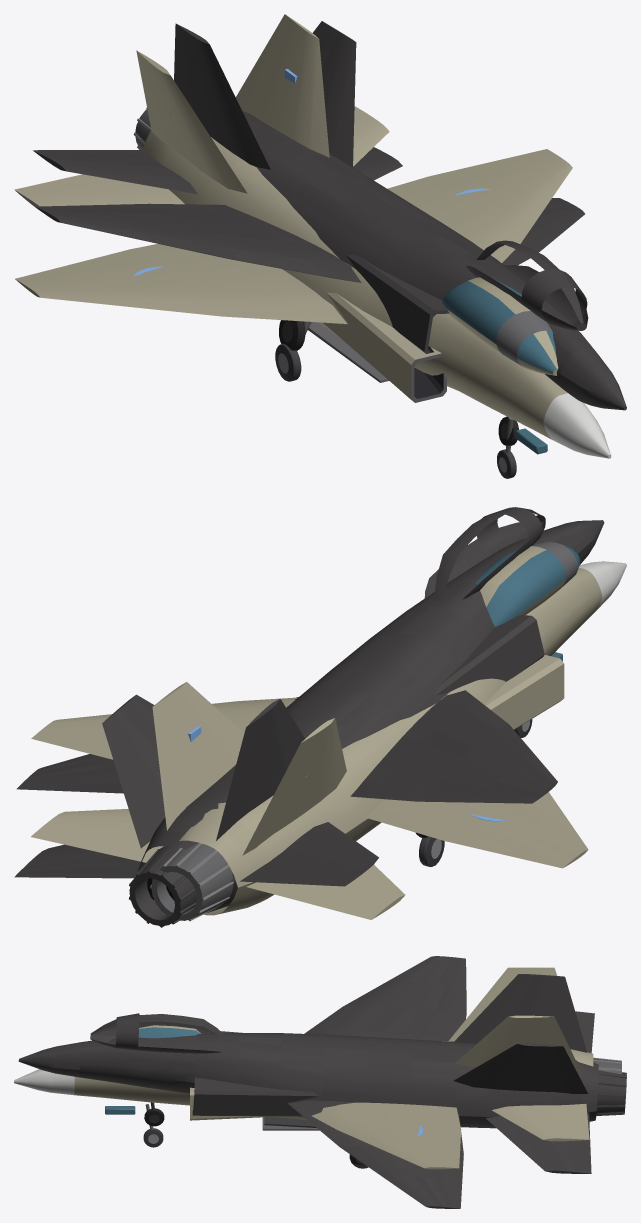
File: stealthFighter__f_35b_lightning.glb
3 views of the same model, one above another, from view 1: azimuth 30°, elevation 25°; view 2: azimuth 150°, elevation 25°; view 3: azimuth 270°, elevation 25° (orthographic). The views are drawn at different scales.
Parts seen in each view (by area): view 1: Fuselage_Mesh, Wreck; view 2: Wreck, Fuselage_Mesh; view 3: Wreck, Fuselage_Mesh.
Part boxes in pixels (x1,y1,x2,y2): Fuselage_Mesh: (14, 14, 611, 478); Wreck: (33, 21, 626, 445); Wreck: (14, 507, 604, 927); Fuselage_Mesh: (31, 541, 626, 921); Wreck: (18, 956, 626, 1208); Fuselage_Mesh: (14, 967, 621, 1169).
Size of what is drawn, in the model's own units: 10.98 by 4.65 by 15.76.
